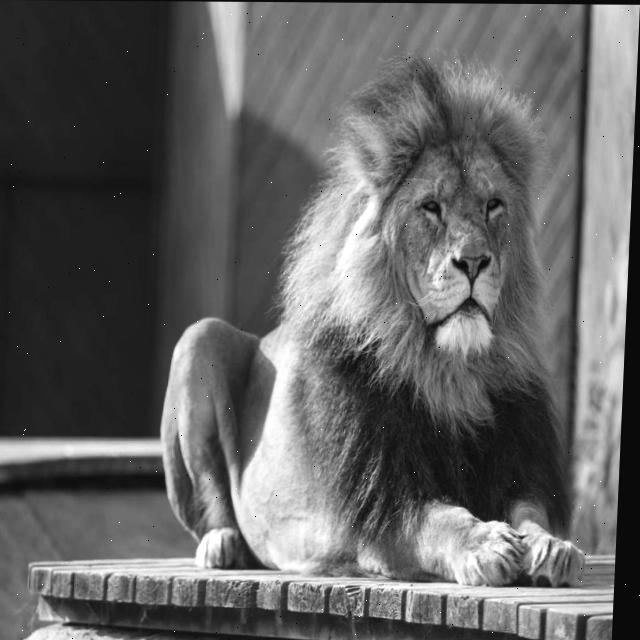Lion: (147, 74, 585, 584)
